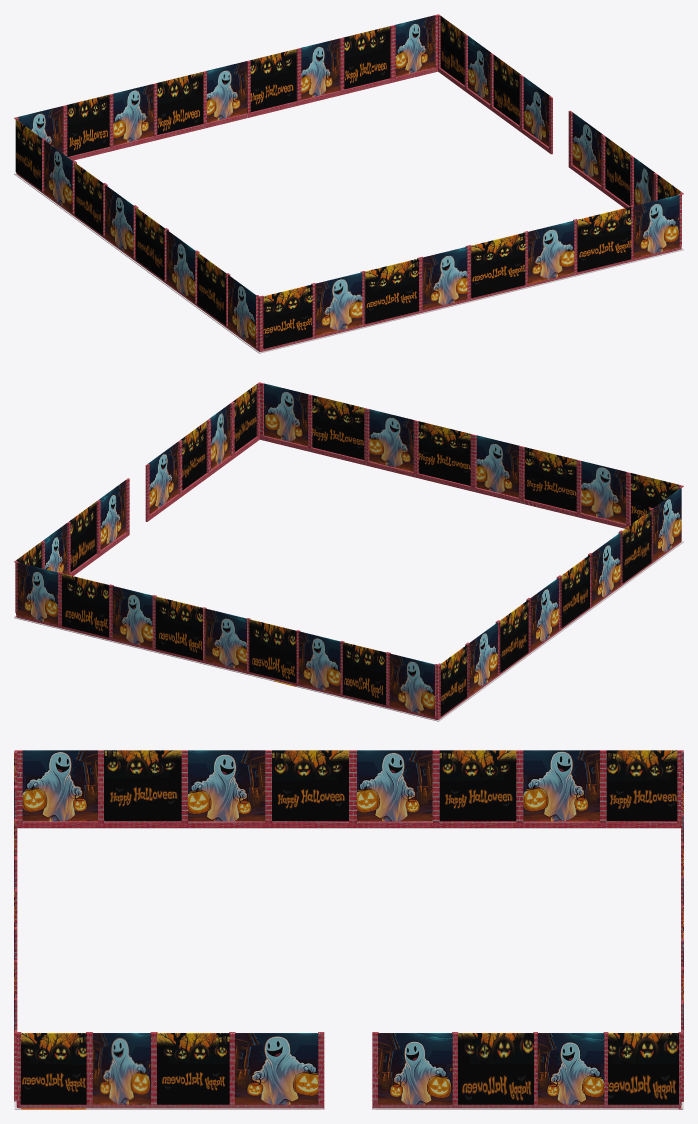
Rendered from wall.fbx.
3 renders of one model, top to bottom at view 1: azimuth 30°, elevation 25°; view 2: azimuth 150°, elevation 25°; view 3: azimuth 270°, elevation 25°, orthographic. The views are drawn at different scales.
Visible parts, largest first — view 1: wall; view 2: wall; view 3: wall.
Boxes of the visible parts, left/top/right/bottom form: wall: left=14, top=14, right=683, bottom=353; wall: left=14, top=382, right=683, bottom=721; wall: left=14, top=750, right=683, bottom=1109.
Bounding box in the file's own units: 1375 × 174 × 1375.
